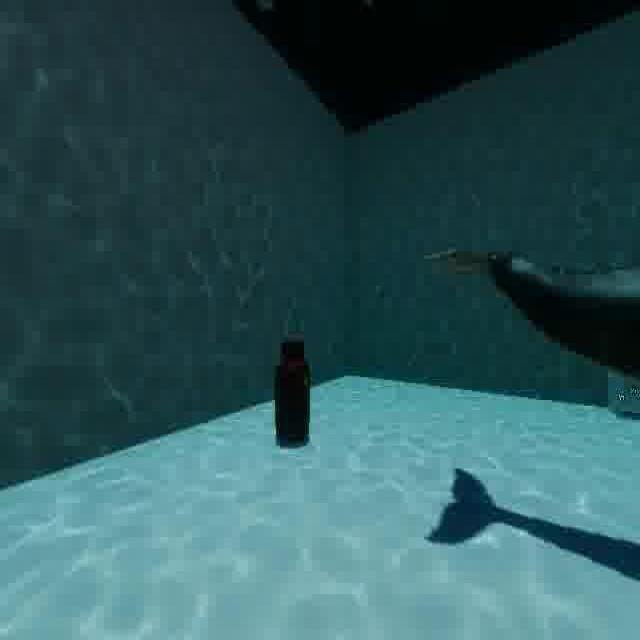Cylinder: (270, 324, 316, 468)
Whale: (414, 229, 640, 423)
